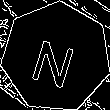N_N: (30, 27, 82, 87)
